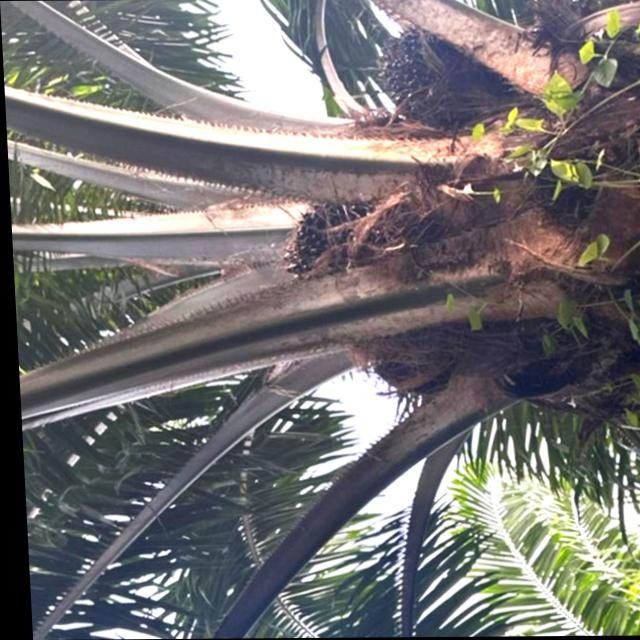almost: (280, 195, 428, 324), (371, 28, 505, 129)
